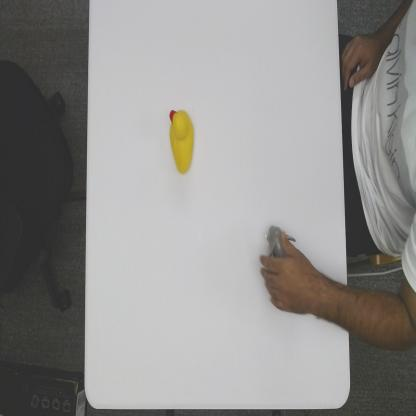Arm: (317, 269, 351, 331)
Duck: (167, 107, 196, 178)
Elephant: (264, 224, 297, 262)
Hand: (260, 232, 312, 315)
